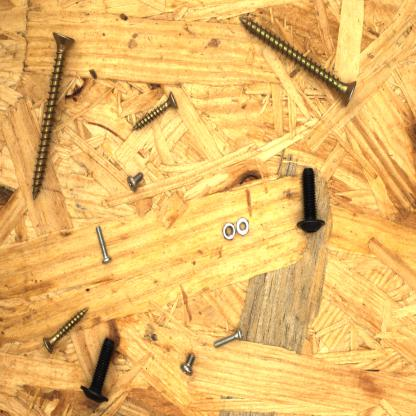screw: (235, 11, 361, 110), (29, 29, 77, 202), (78, 332, 118, 406), (40, 302, 92, 358), (292, 164, 329, 236), (130, 89, 182, 135), (92, 222, 114, 266), (212, 326, 246, 353), (178, 349, 199, 379), (124, 170, 147, 194)
